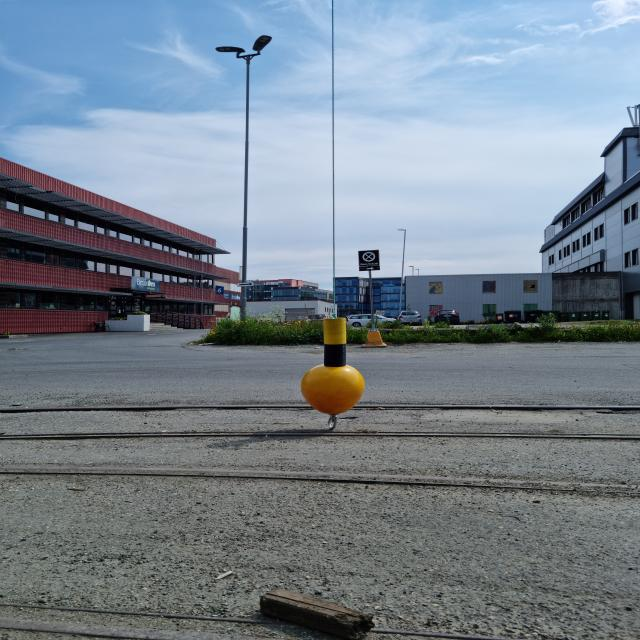west: (303, 318, 365, 414)
